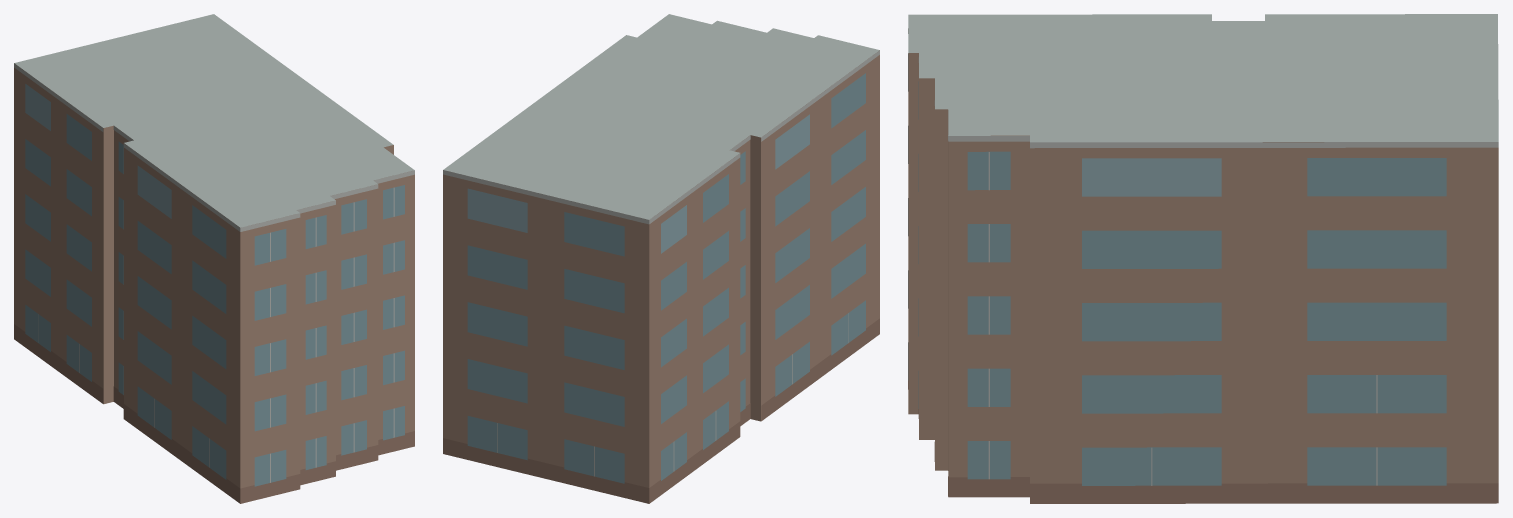
The model's file is survey-upis-32665098.glb.
3 views of the same model, side by side, from view 1: azimuth 30°, elevation 25°; view 2: azimuth 150°, elevation 25°; view 3: azimuth 270°, elevation 25° (orthographic). The views are drawn at different scales.
Parts seen in each view (by area): view 1: survey-upis-32665098.tmp; view 2: survey-upis-32665098.tmp; view 3: survey-upis-32665098.tmp.
Boxes of the visible parts, x1=… form: survey-upis-32665098.tmp: x1=14, y1=14, x2=414, y2=503; survey-upis-32665098.tmp: x1=443, y1=14, x2=879, y2=503; survey-upis-32665098.tmp: x1=908, y1=14, x2=1498, y2=503.
Bounding box in the file's own units: 11.62 × 15.25 × 22.59.
